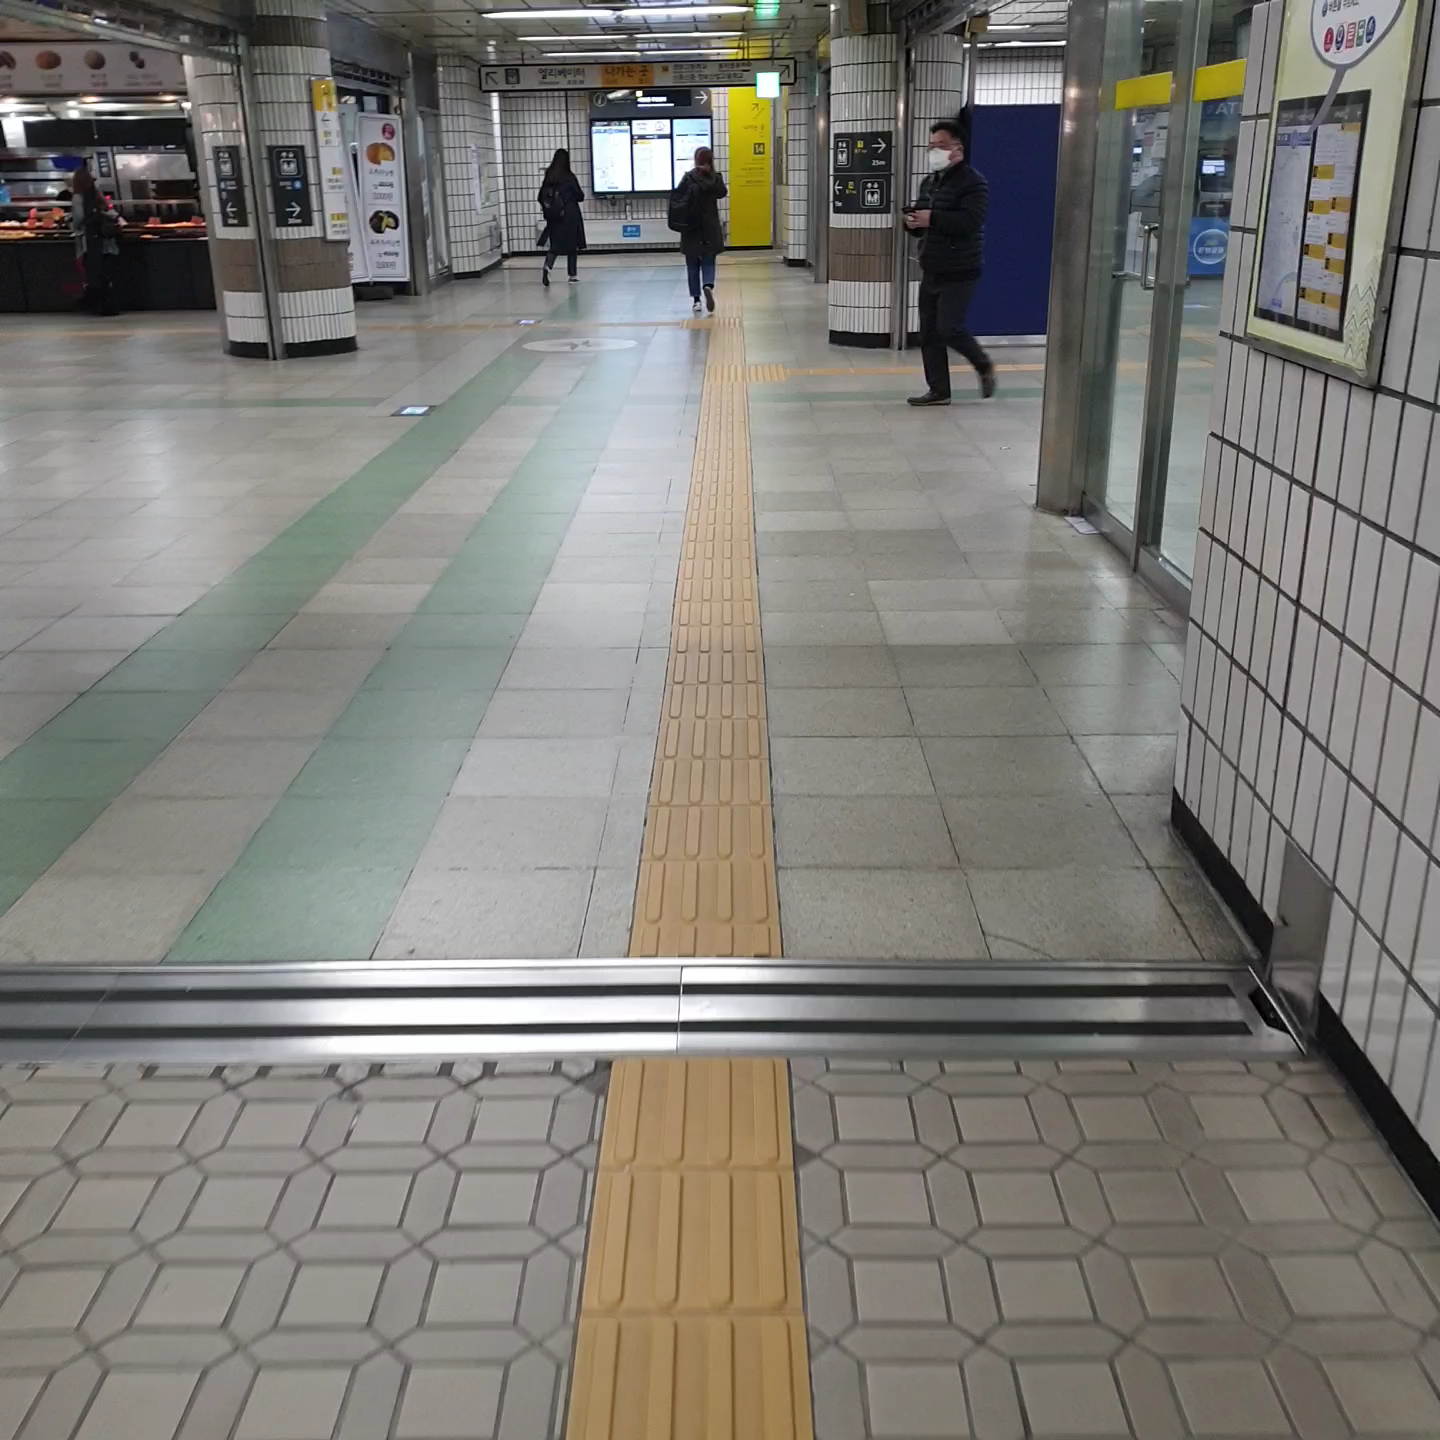line: (592, 1168, 806, 1313), (574, 1313, 818, 1440), (612, 1054, 798, 1171), (628, 857, 781, 963), (640, 793, 777, 862), (655, 756, 775, 811), (649, 713, 767, 762), (665, 686, 767, 721), (673, 645, 762, 684), (665, 618, 758, 651), (671, 600, 758, 626)
